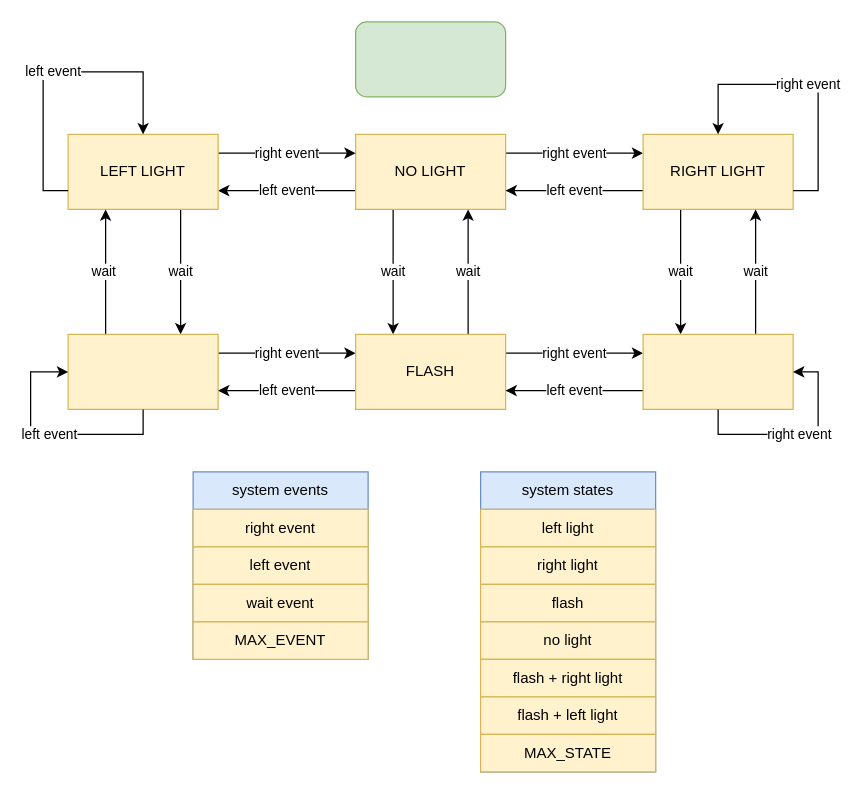
Image size: 861x794. Some labels were removed from this diagram. The centre of each missing label's shape, as x and y in pixels:
CAR SIGNAL: [430,59]
FALSH+RIGHT LIGHT: [717,371]
FLASH+LEFT LIGHT: [142,371]
